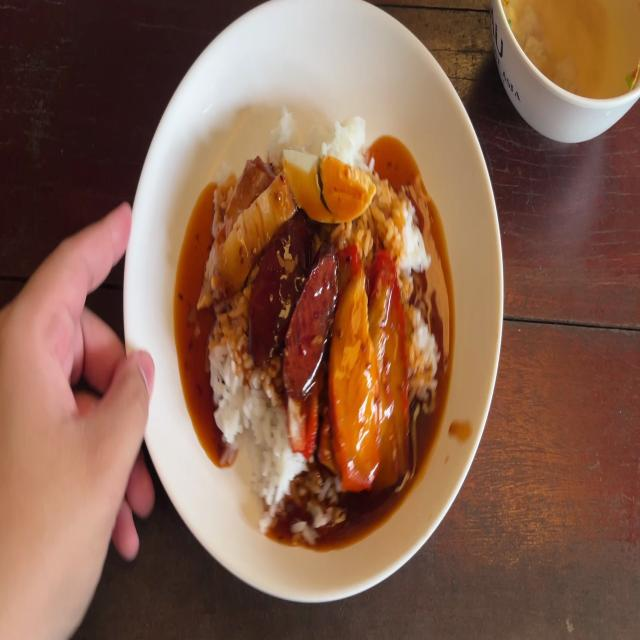01boiled_egg: (278, 145, 372, 226)
01chainese_sausage: (250, 222, 336, 383)
01crispy_pork: (198, 156, 292, 306)
01red_pork: (334, 254, 404, 464)
01red_pork_and_crispy_pork: (206, 118, 438, 526)
01rice: (235, 391, 285, 516), (208, 334, 255, 424), (379, 174, 422, 264), (328, 118, 382, 169)
